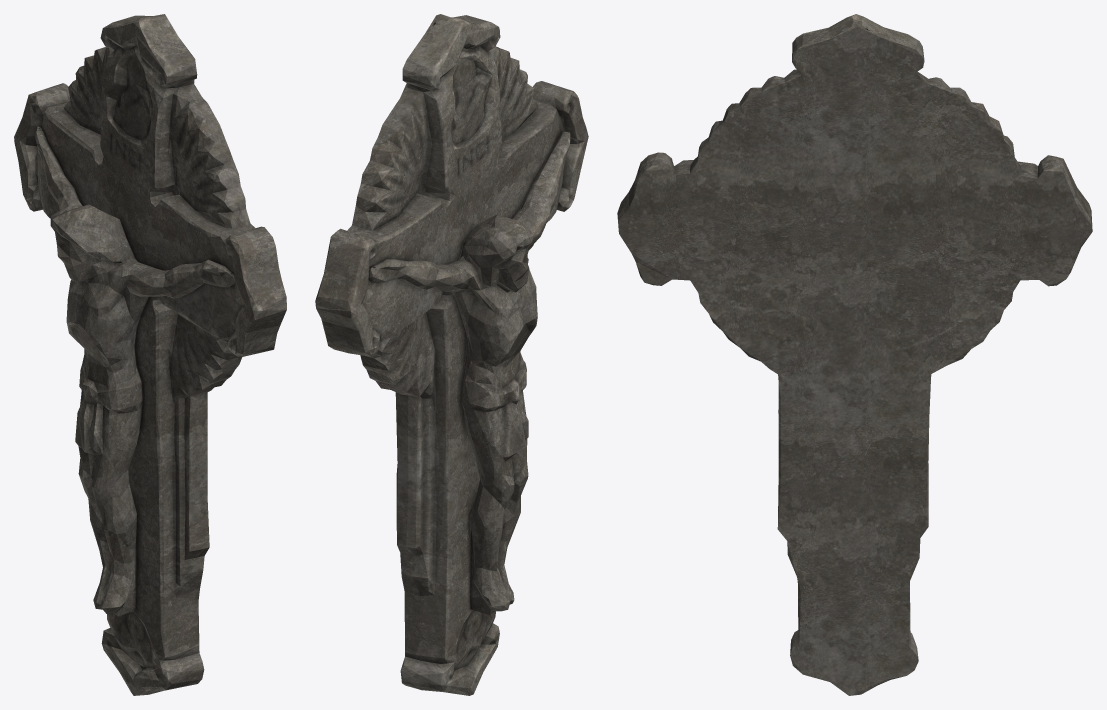
Rendered from 4PMCEXNU2SY4185KDIZ0D05EQ.fbx.
3 views of the same model, side by side, from view 1: azimuth 30°, elevation 25°; view 2: azimuth 150°, elevation 25°; view 3: azimuth 270°, elevation 25° (orthographic).
Visible parts, largest first — view 1: Object_TexMap; view 2: Object_TexMap; view 3: Object_TexMap.
Boxes of the visible parts, x1,y1,x2,y2 form: Object_TexMap: (14,14,286,695); Object_TexMap: (315,14,588,695); Object_TexMap: (617,14,1092,695).
Bounding box in the file's own units: 0.4157 × 2.5 × 1.61.
